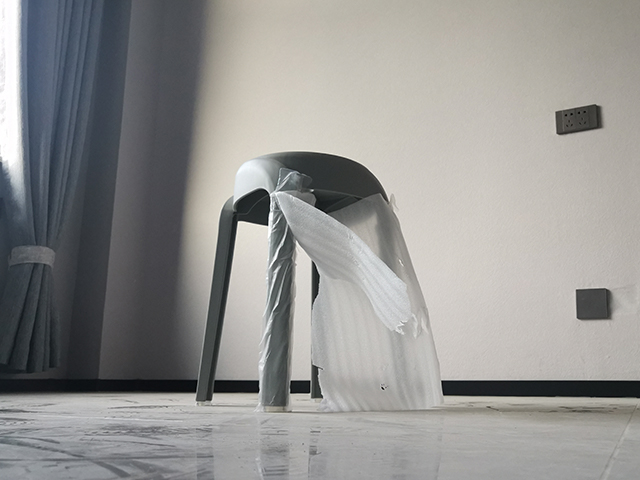curtain: (1, 1, 105, 375)
stool: (192, 150, 407, 408)
